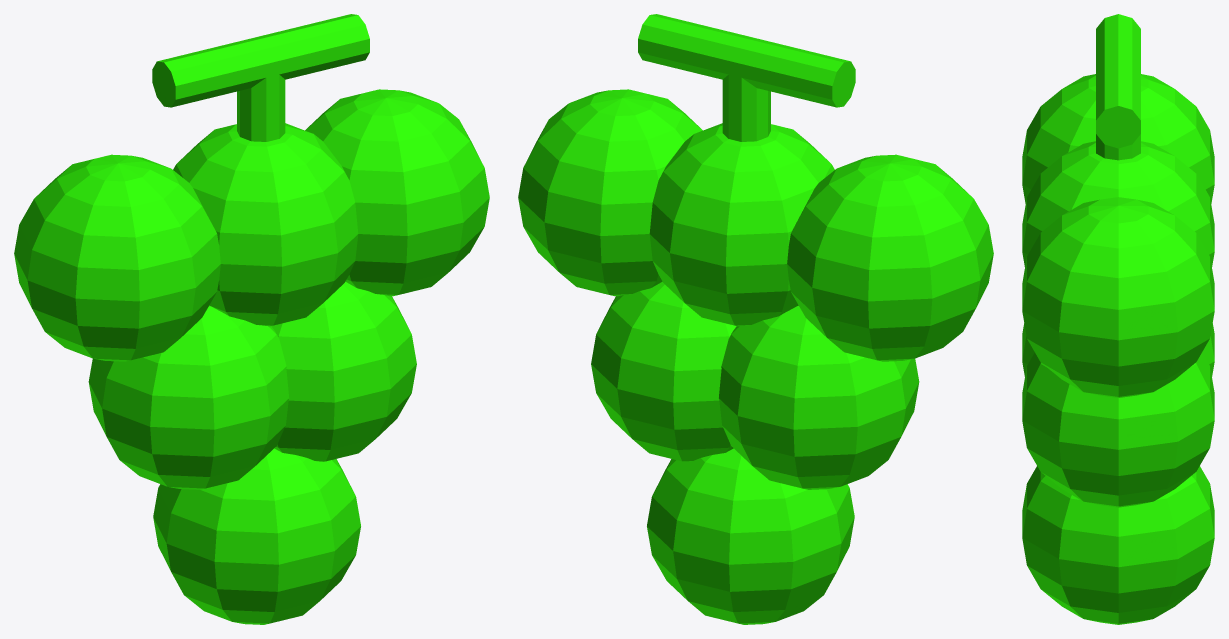
File: grape.obj
The picture shows the model from 3 angles, left to right: view 1: azimuth 30°, elevation 25°; view 2: azimuth 150°, elevation 25°; view 3: azimuth 270°, elevation 25°; orthographic projection. The views are drawn at different scales.
Parts seen in each view (by area): view 1: pSphere2; view 2: pSphere2; view 3: pSphere2.
Part boxes in pixels (box(x1,y1,x2,y2)): pSphere2: box(14, 14, 489, 624); pSphere2: box(518, 14, 993, 624); pSphere2: box(1022, 14, 1214, 624).
Bounding box in the file's own units: 4.96 × 6.08 × 1.9.
